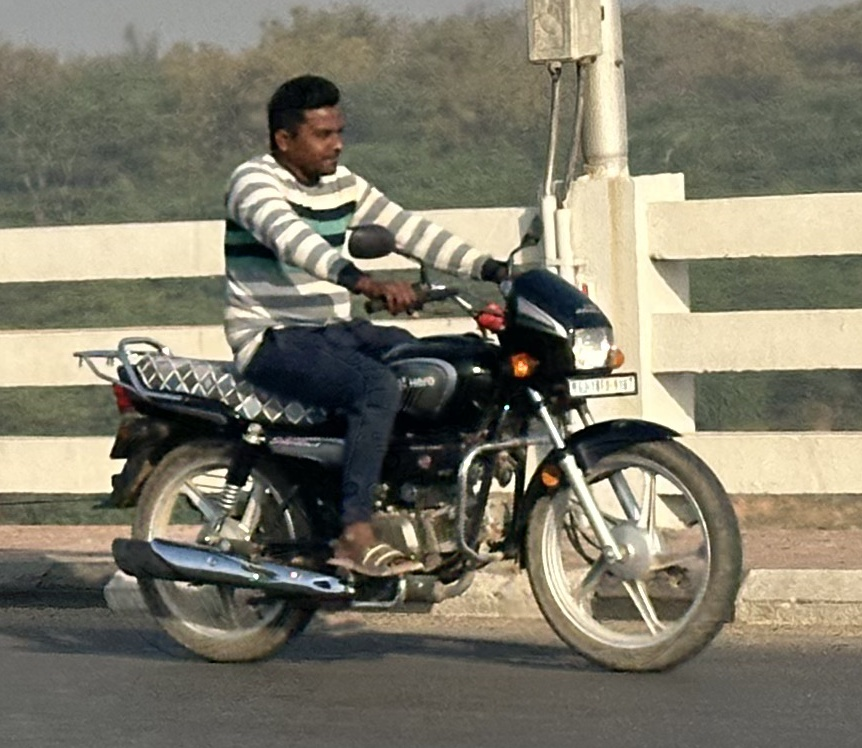BikeWithRider: (62, 61, 757, 679)
NoHelmet: (251, 66, 362, 181)
